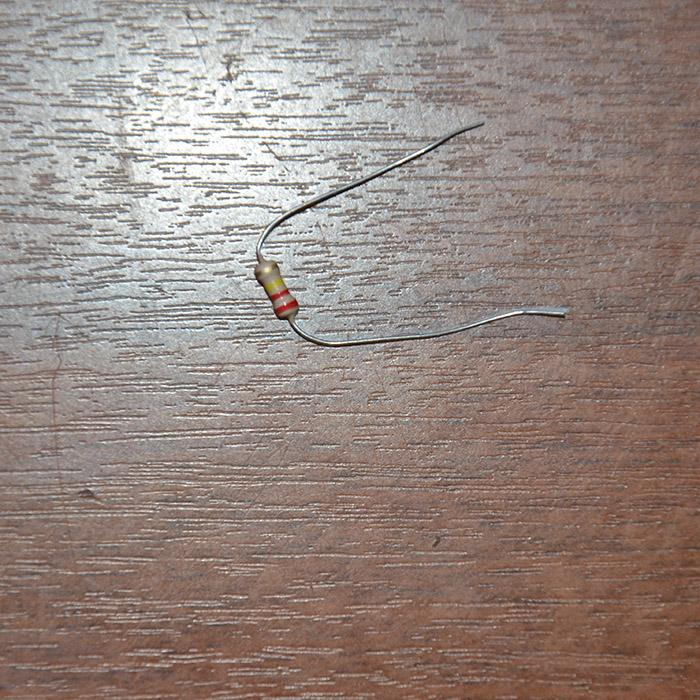resistor: (254, 256, 298, 321)
